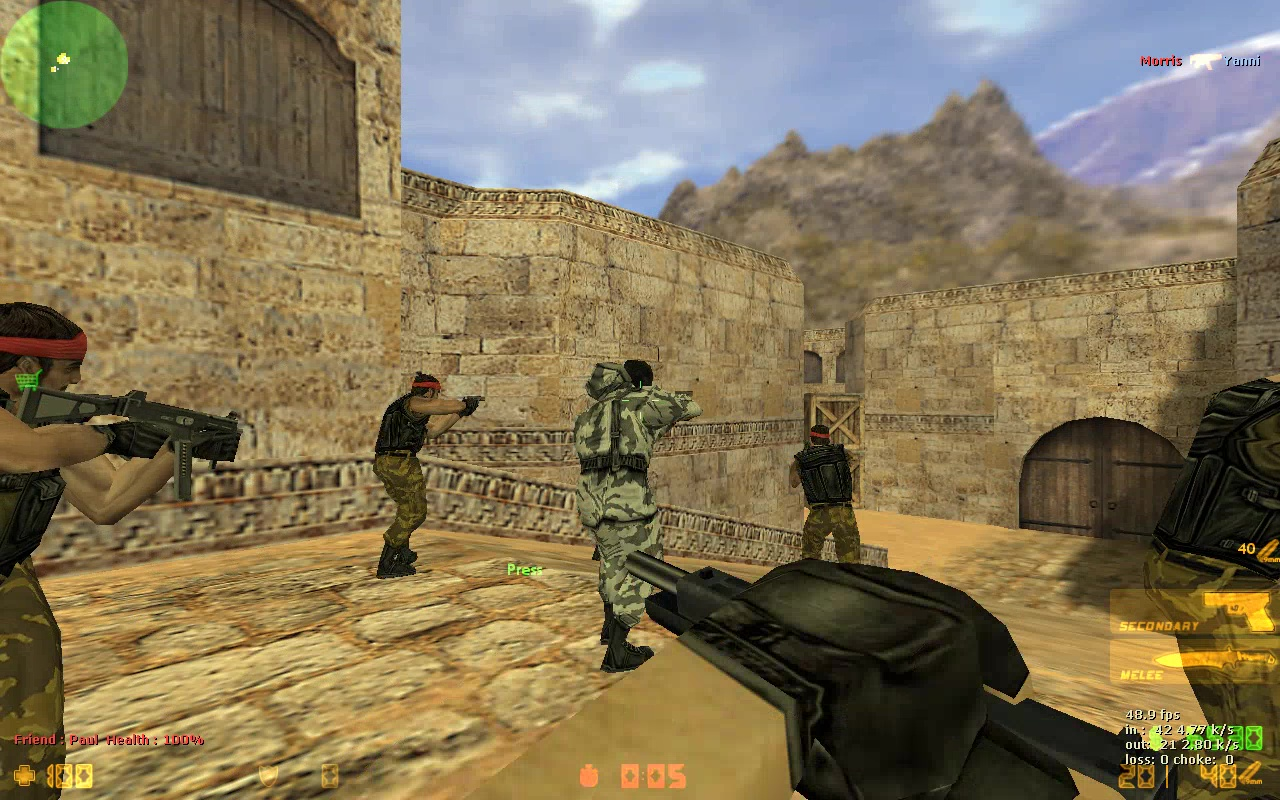terr1: (3, 300, 245, 800), (1142, 364, 1280, 780), (370, 371, 475, 579), (787, 426, 870, 583)
terr2: (569, 355, 702, 672)
